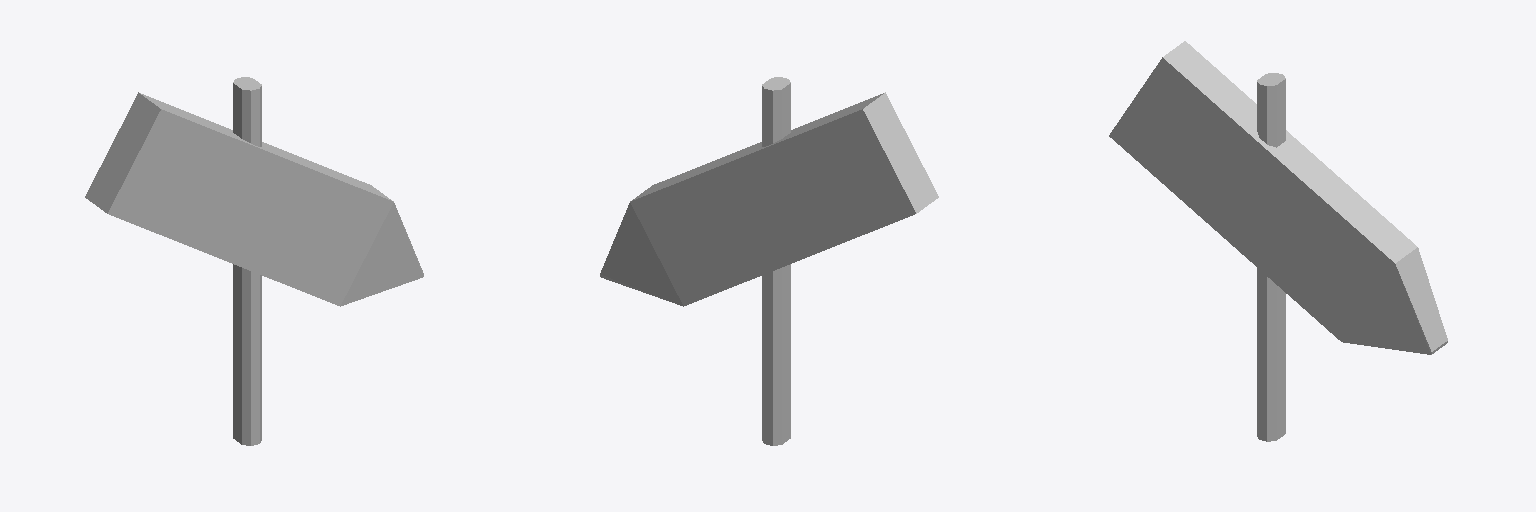
Rendered from tinker.obj.
The picture shows the model from 3 angles: view 1: azimuth 30°, elevation 25°; view 2: azimuth 150°, elevation 25°; view 3: azimuth 330°, elevation 25°; orthographic projection.
Parts seen in each view (by area): view 1: sign_Cube.001; view 2: sign_Cube.001; view 3: sign_Cube.001.
Boxes of the visible parts, box(x1,y1,x2,y2) form: sign_Cube.001: box(85, 77, 423, 445); sign_Cube.001: box(600, 77, 938, 445); sign_Cube.001: box(1109, 41, 1447, 441).
Size of the model in its own units: 1.88 by 2.04 by 0.232.